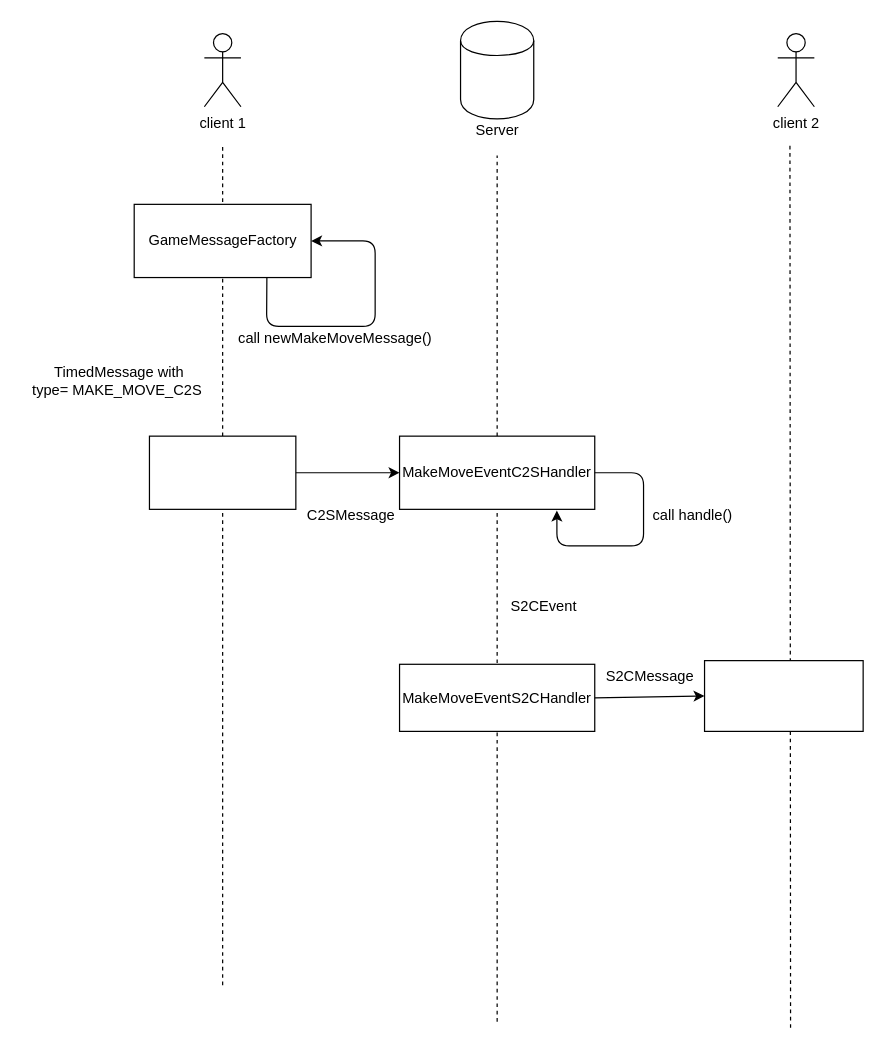
Some shapes in this 885 by 1050 pixel diagram are drawn without their labels. Here are the shapes that lost their labels. From the top down, the box of each, then its label:
(148, 435, 296, 509): GameApplication
(703, 659, 863, 731): MakeMoveS2CHandler
